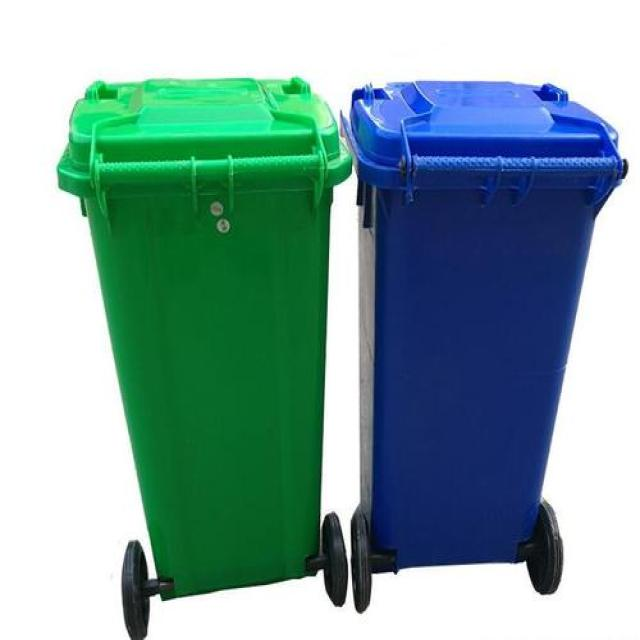garbage_bin: (56, 77, 351, 601), (338, 78, 626, 568)
